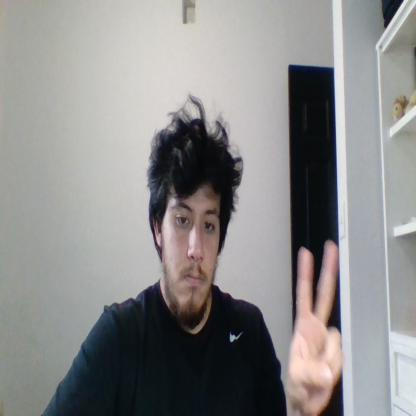V: (286, 240, 345, 412)
